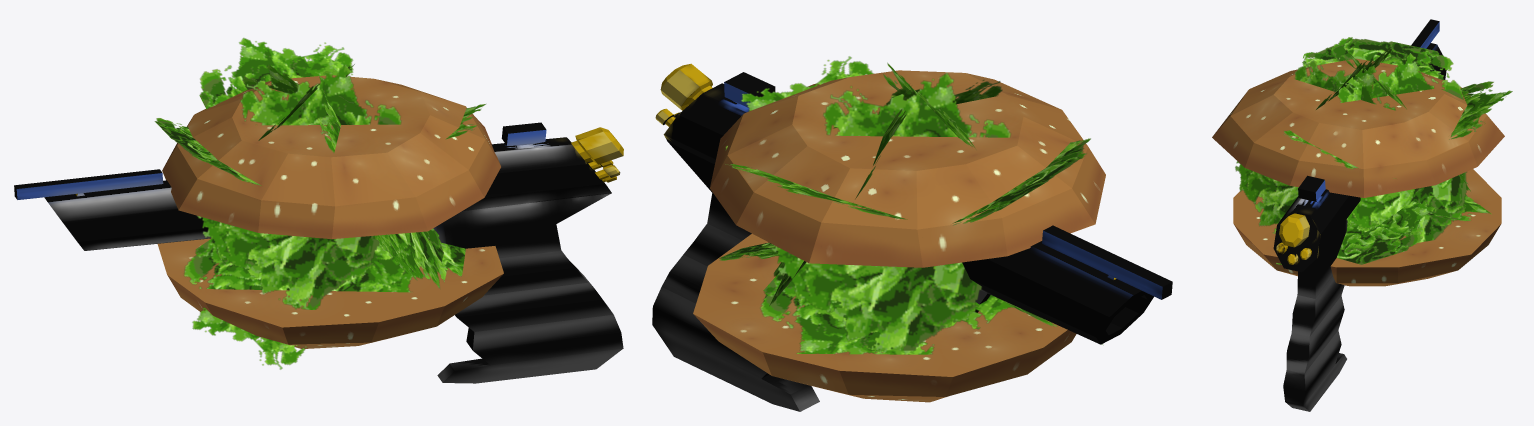
File: burger_gun.glb
3 renders of one model, left to right at view 1: azimuth 30°, elevation 25°; view 2: azimuth 150°, elevation 25°; view 3: azimuth 270°, elevation 25°, orthographic. The views are drawn at different scales.
Visible parts, largest first — view 1: Gun, Cube.001, Cube, Empty.018, Empty.013, Empty.015, Empty.017, Empty.014, Empty.020, Empty.011; view 2: Cube.001, Gun, Cube, Empty.019, Empty.012, Empty.014, Empty.016, Empty.015, Empty.020, Empty.017, Empty.018, Empty.011; view 3: Cube.001, Gun, Cube, Empty.020, Empty.017, Empty.011, Empty.014, Empty.015, Empty.018, Empty.012, Empty.019, Empty.016.
Part boxes in pixels (left/top/right/bottom): Gun: left=14, top=122, right=623, bottom=383; Cube.001: left=162, top=75, right=500, bottom=239; Cube: left=157, top=238, right=503, bottom=348; Empty.018: left=197, top=64, right=401, bottom=309; Empty.013: left=183, top=238, right=412, bottom=369; Empty.015: left=199, top=37, right=353, bottom=109; Empty.017: left=318, top=75, right=447, bottom=288; Empty.014: left=154, top=118, right=261, bottom=185; Empty.020: left=242, top=64, right=354, bottom=103; Empty.011: left=379, top=242, right=465, bottom=276; Cube.001: left=710, top=70, right=1105, bottom=267; Gun: left=652, top=63, right=1172, bottom=411; Cube: left=693, top=233, right=1076, bottom=402; Empty.019: left=771, top=72, right=1010, bottom=352; Empty.012: left=760, top=267, right=1014, bottom=354; Empty.014: left=952, top=138, right=1090, bottom=225; Empty.016: left=725, top=56, right=873, bottom=150; Empty.015: left=725, top=164, right=907, bottom=219; Empty.020: left=763, top=84, right=909, bottom=305; Empty.017: left=833, top=79, right=1002, bottom=128; Empty.018: left=883, top=62, right=976, bottom=149; Empty.011: left=719, top=242, right=779, bottom=260; Cube.001: left=1212, top=58, right=1504, bottom=197; Gun: left=1273, top=19, right=1446, bottom=411; Cube: left=1233, top=169, right=1501, bottom=286; Empty.020: left=1337, top=53, right=1466, bottom=242; Empty.017: left=1235, top=58, right=1395, bottom=233; Empty.011: left=1276, top=201, right=1435, bottom=264; Empty.014: left=1302, top=37, right=1453, bottom=79; Empty.015: left=1449, top=81, right=1512, bottom=139; Empty.018: left=1316, top=45, right=1394, bottom=109; Empty.012: left=1427, top=195, right=1491, bottom=221; Empty.019: left=1345, top=50, right=1470, bottom=196; Empty.016: left=1283, top=130, right=1395, bottom=178.
Bounding box in the file's own units: 6.37 × 4.03 × 4.15.
Materials: 12 (12 with a texture image).
